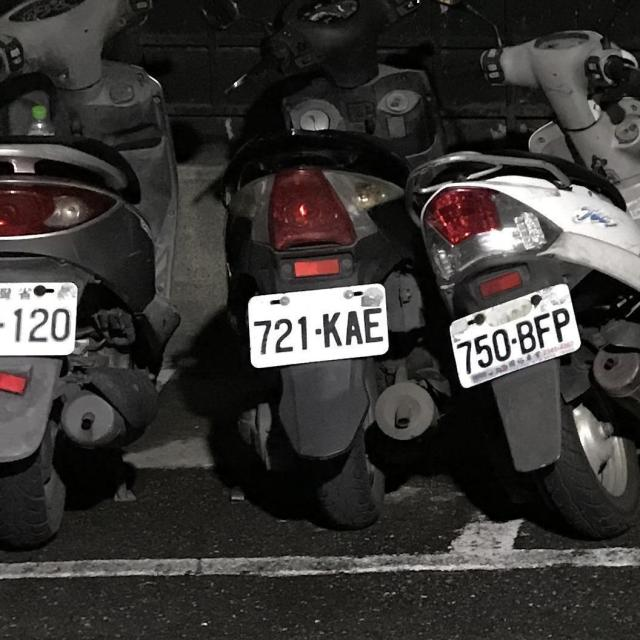W: (444, 278, 591, 389), (244, 277, 396, 373), (0, 276, 81, 359)
